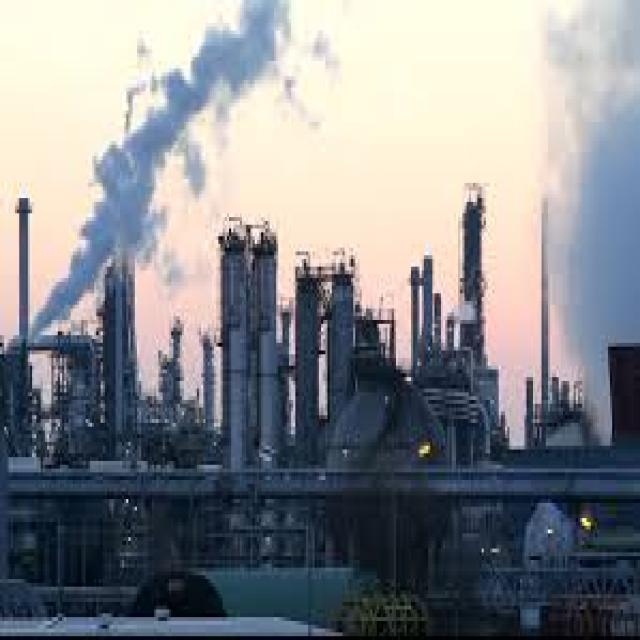Smoke: (31, 0, 346, 336), (528, 0, 640, 445)
